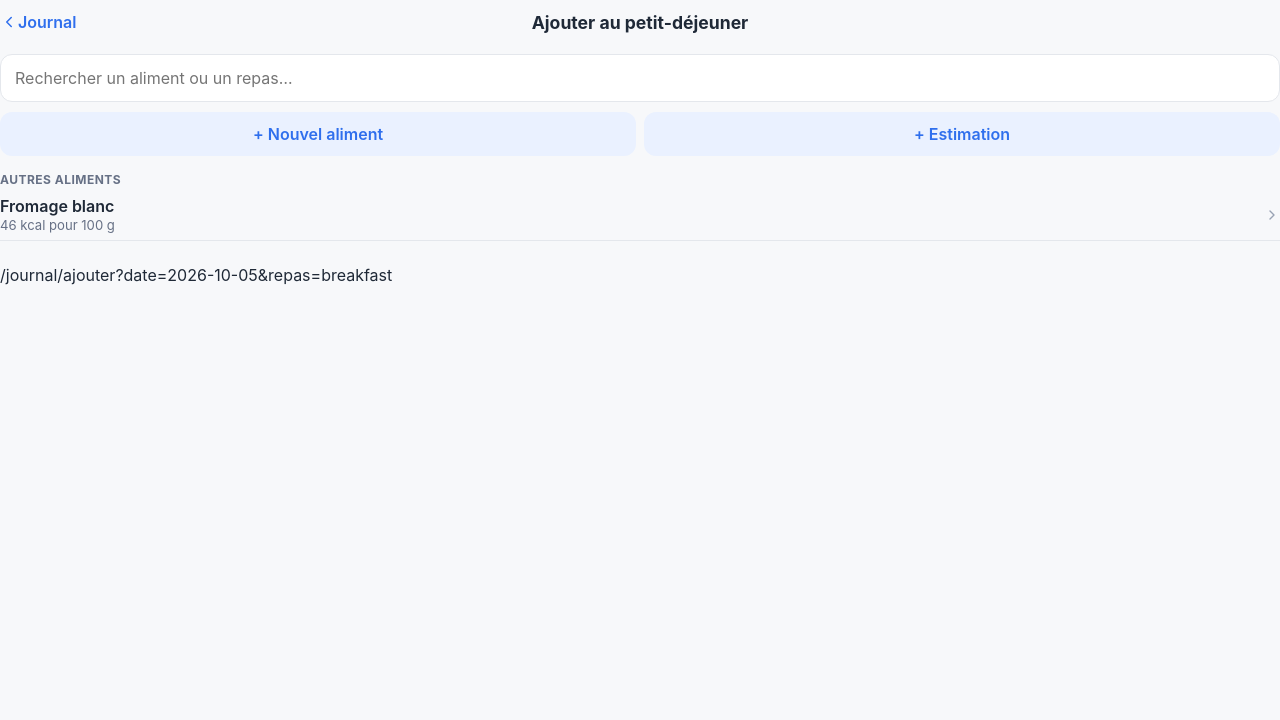
Test: écran Ajouter › quantité : ½, habituelle, ×2 ; valeurs en direct
Step 1. Click the button "Fromage blanc 46 kcal pour 100 g" → (57, 206), box [0,189,1279,241]
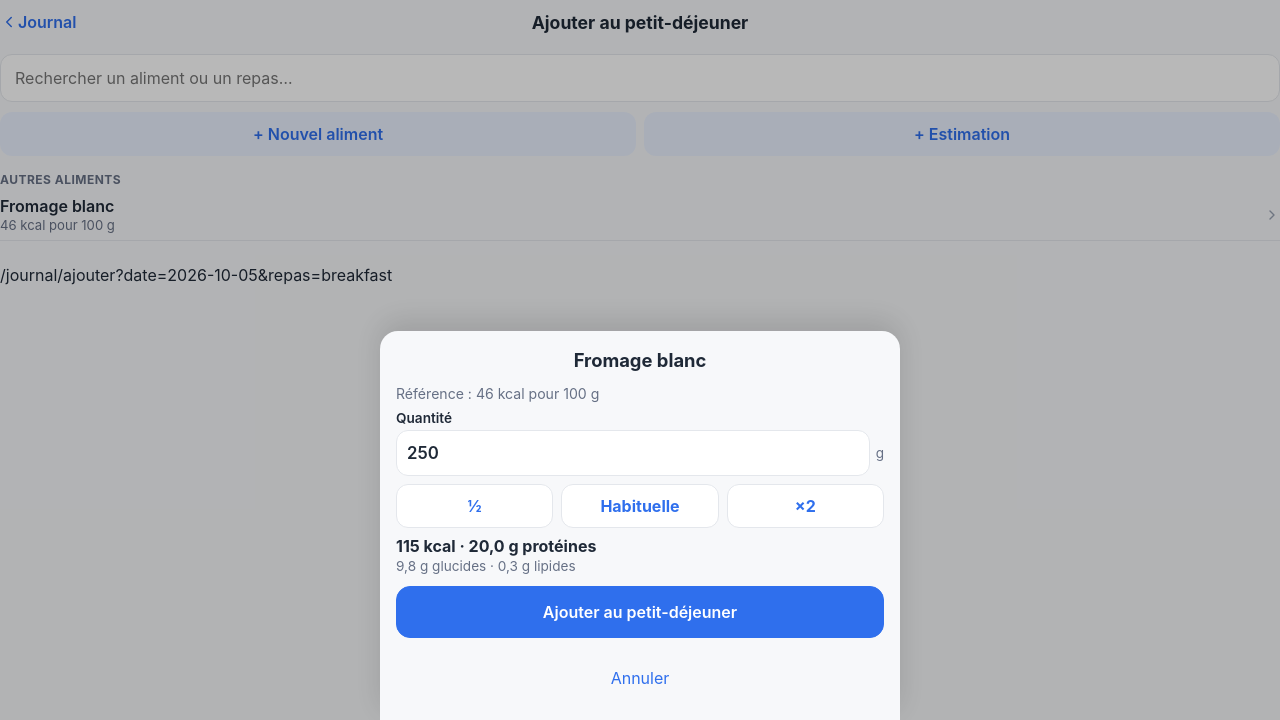
Result: the field named "Quantité à ajouter" holds "250" at [396,430,870,476]
Result: the text "115 kcal · 20,0 g protéines" is shown at [396,536,596,556]
Result: the text "9,8 g glucides · 0,3 g lipides" is shown at [396,558,576,574]
Step 2. Click the button "×2" → (805, 506), box [727,484,884,528]
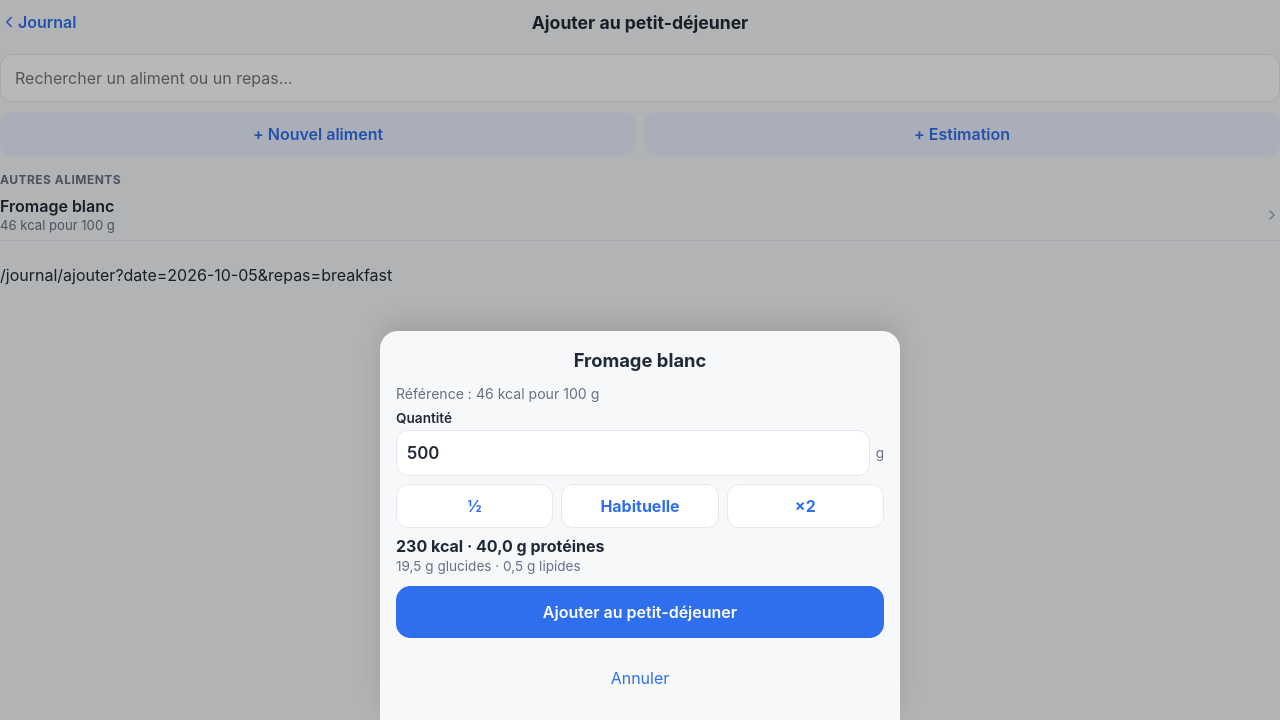
Result: the field named "Quantité à ajouter" holds "500" at [396,430,870,476]
Step 3. Click the button "½" → (475, 506), box [396,484,553,528]
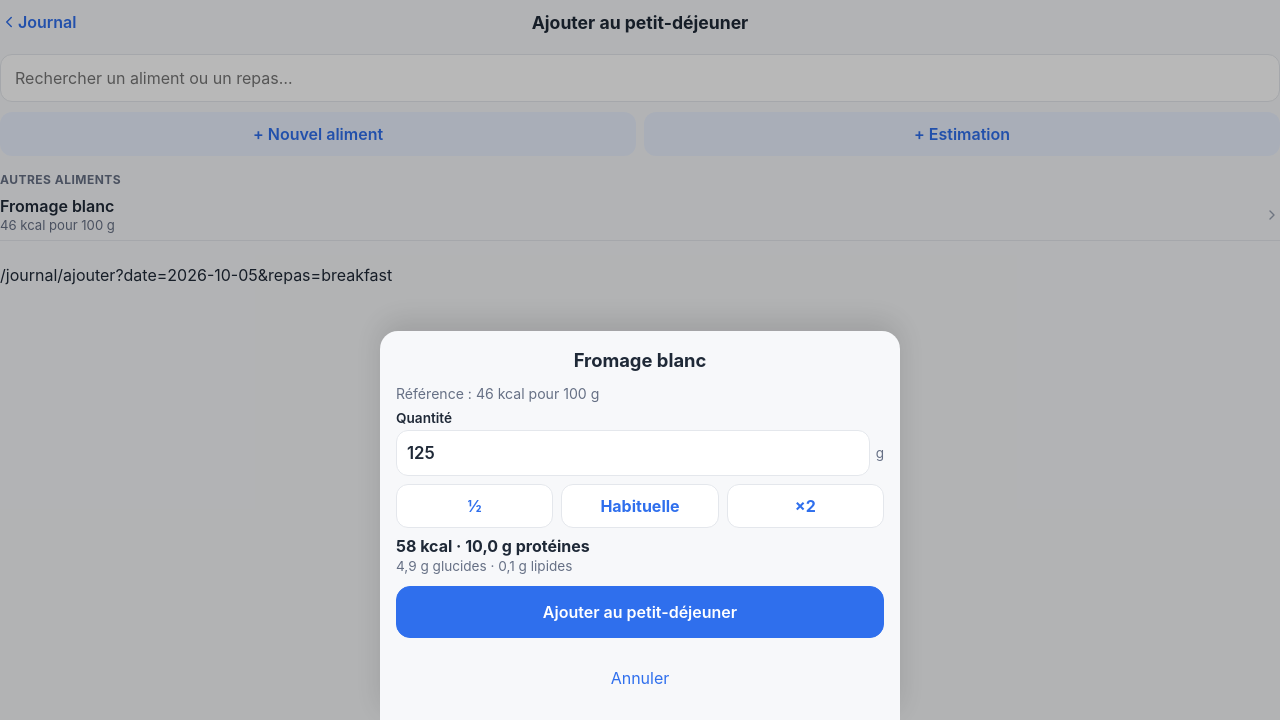
Result: the field named "Quantité à ajouter" holds "125" at [396,430,870,476]
Step 4. Click the button "Habituelle" → (640, 506), box [561,484,719,528]
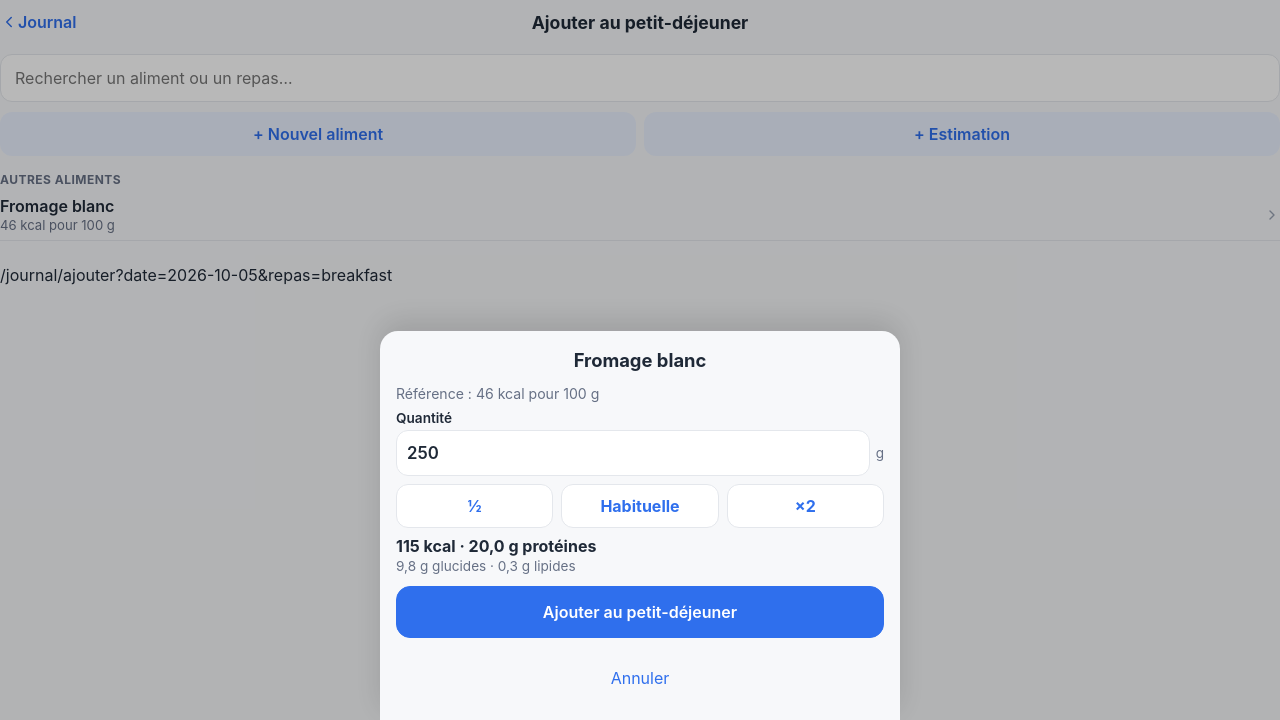
Result: the field named "Quantité à ajouter" holds "250" at [396,430,870,476]
